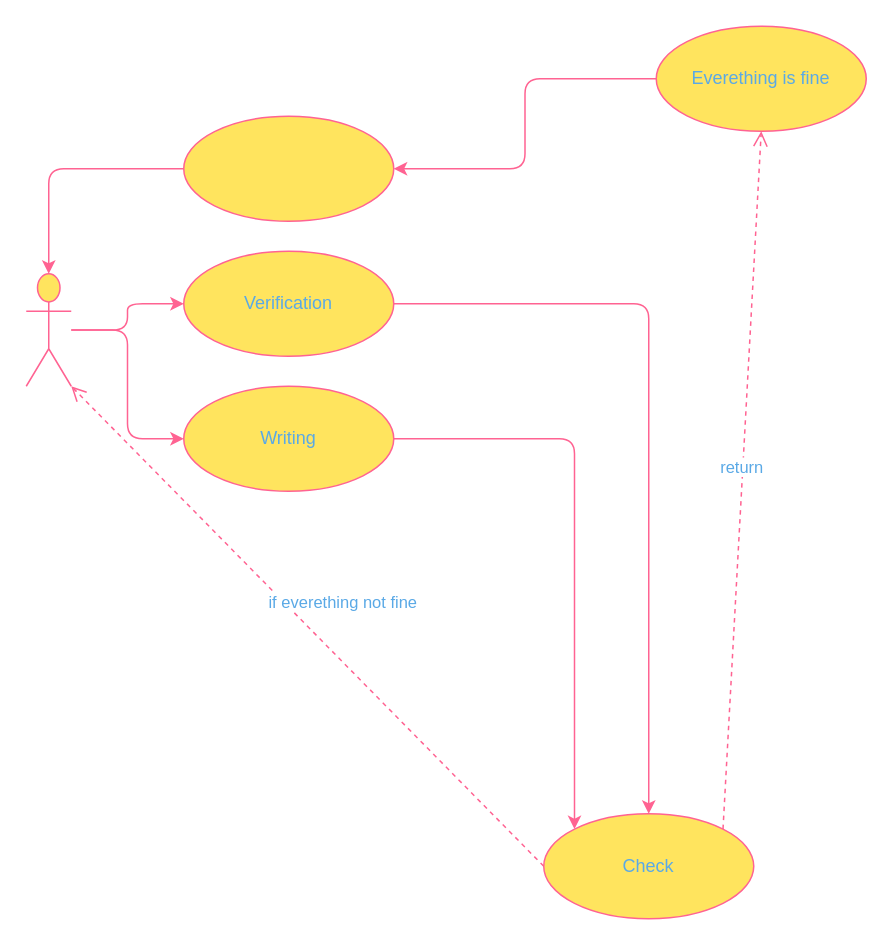
Image size: 893x945. Some labels were removed from this diagram. The centre of each missing label's shape, as x and y in pixels:
Actor: pixel 48 329
Product: pixel 288 168
